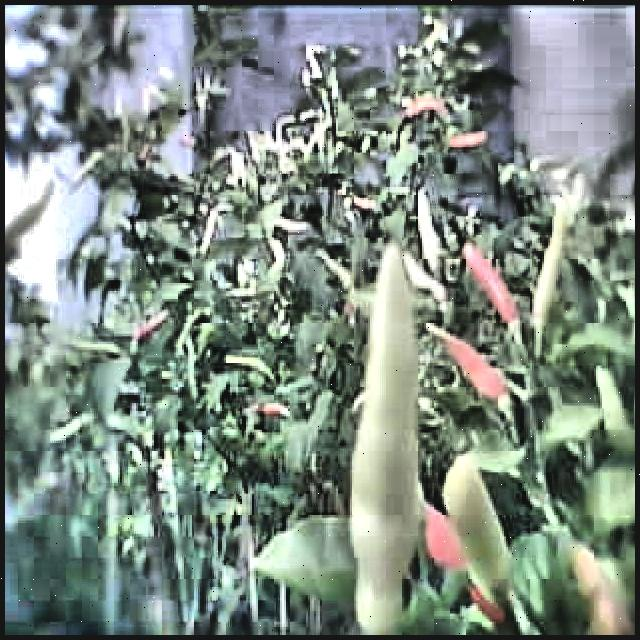Cabai: (435, 323, 523, 424), (462, 243, 527, 343), (400, 87, 454, 122), (439, 123, 494, 156), (252, 392, 302, 423)
